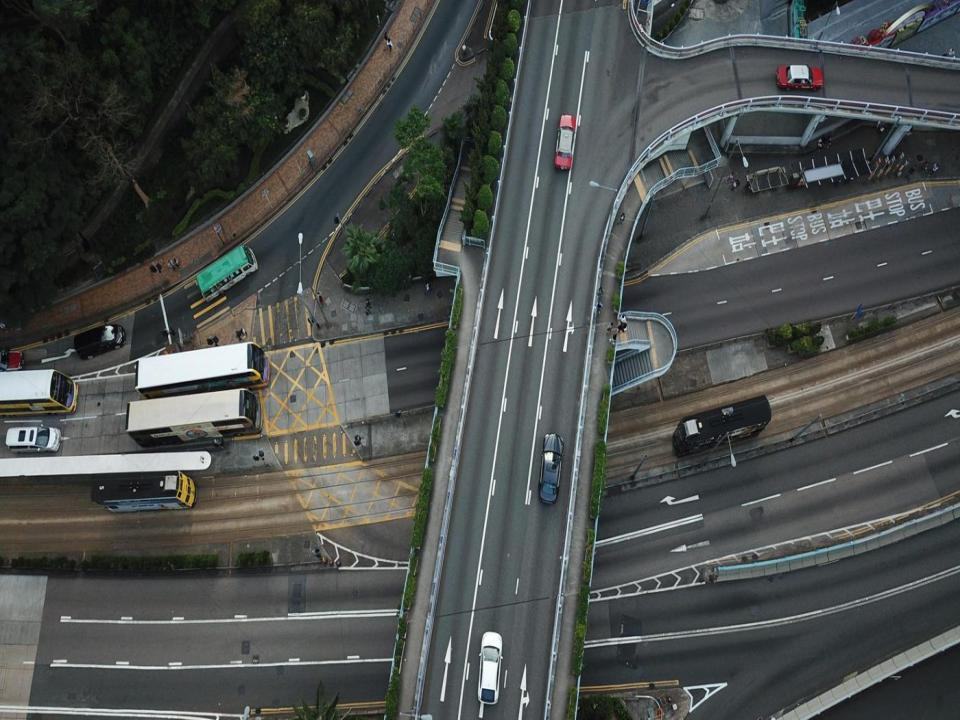bus: (125, 394, 262, 448), (132, 341, 269, 393), (671, 394, 773, 458), (91, 474, 198, 512), (0, 369, 77, 414), (195, 249, 256, 304)
car: (478, 632, 505, 704), (538, 432, 562, 506), (552, 113, 578, 172), (776, 63, 825, 91), (3, 344, 26, 374)
van: (73, 323, 128, 358), (5, 428, 61, 456)
